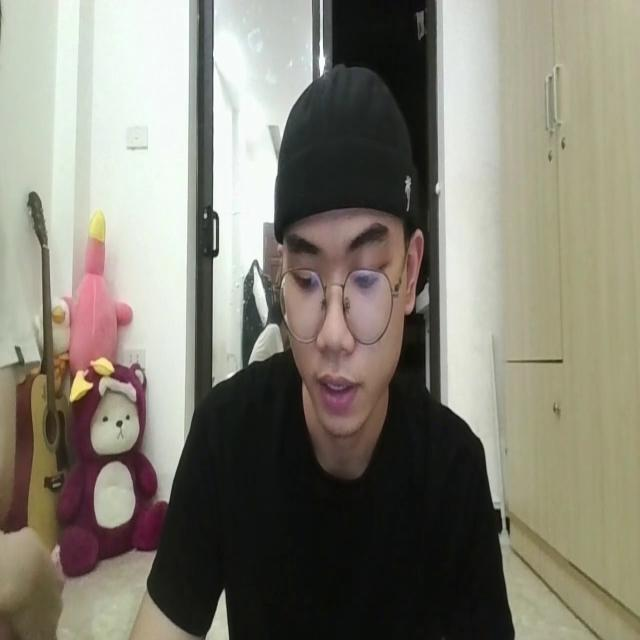student: (124, 73, 514, 640)
